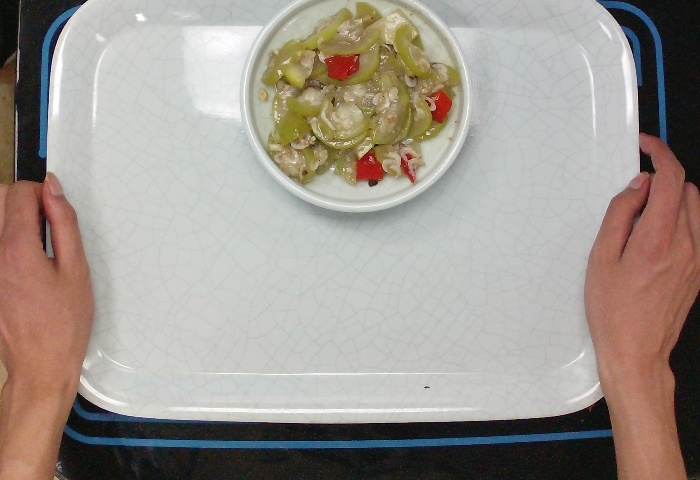JYsf-Xiao_Yuan_Pan: (237, 1, 473, 214)
